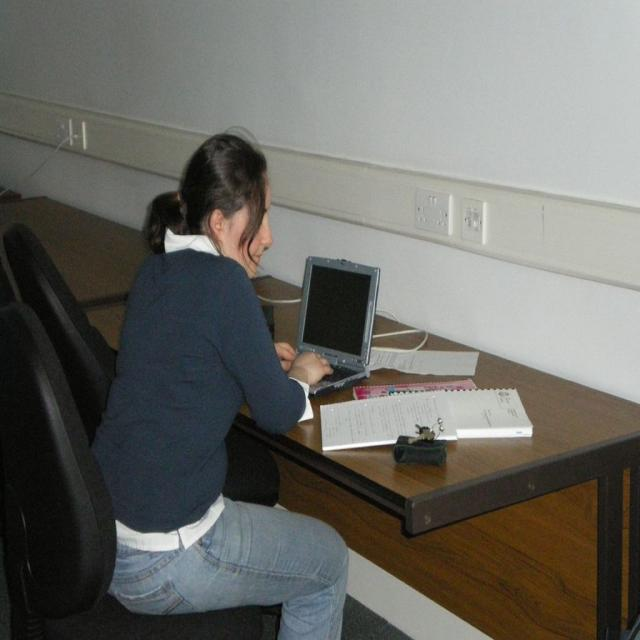chair: (4, 254, 275, 640)
desk: (82, 271, 639, 639)
laptop: (290, 255, 381, 396)
person: (90, 126, 348, 636)
